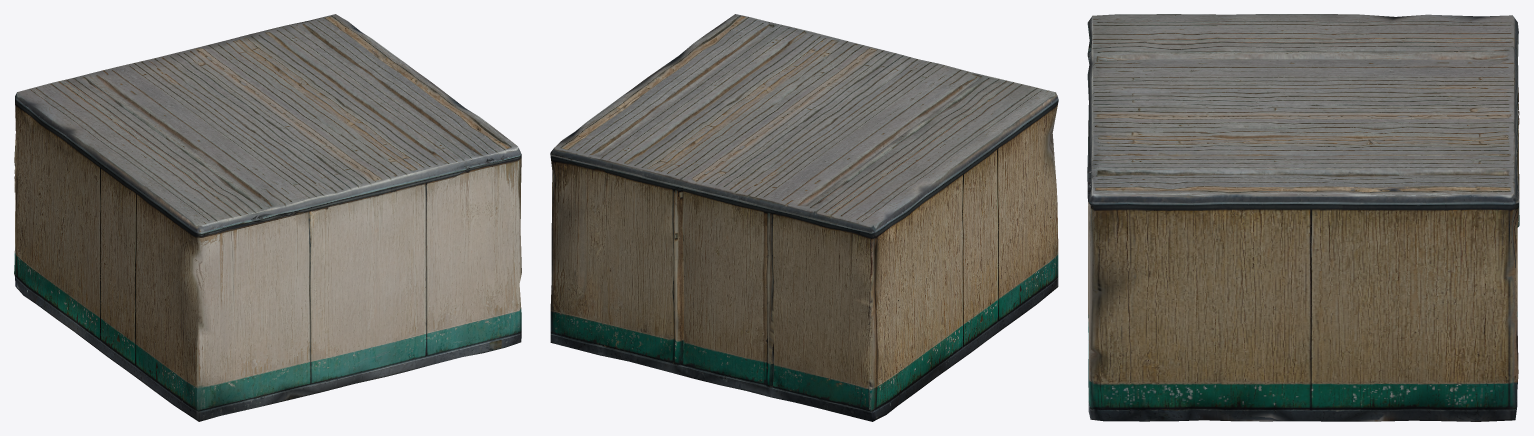
The model's file is EX_Lab_Wall.fbx.
3 renders of one model, left to right at view 1: azimuth 30°, elevation 25°; view 2: azimuth 150°, elevation 25°; view 3: azimuth 270°, elevation 25°, orthographic. The views are drawn at different scales.
Visible parts, largest first — view 1: texture_mapping; view 2: texture_mapping; view 3: texture_mapping.
Part boxes in pixels (x1,y1,x2,y2): texture_mapping: [14, 14, 521, 421]; texture_mapping: [550, 14, 1058, 421]; texture_mapping: [1087, 14, 1519, 421].
Size of the model in its own units: 0.9959 by 0.9882 by 0.5734.
1 material, 1 textured.
